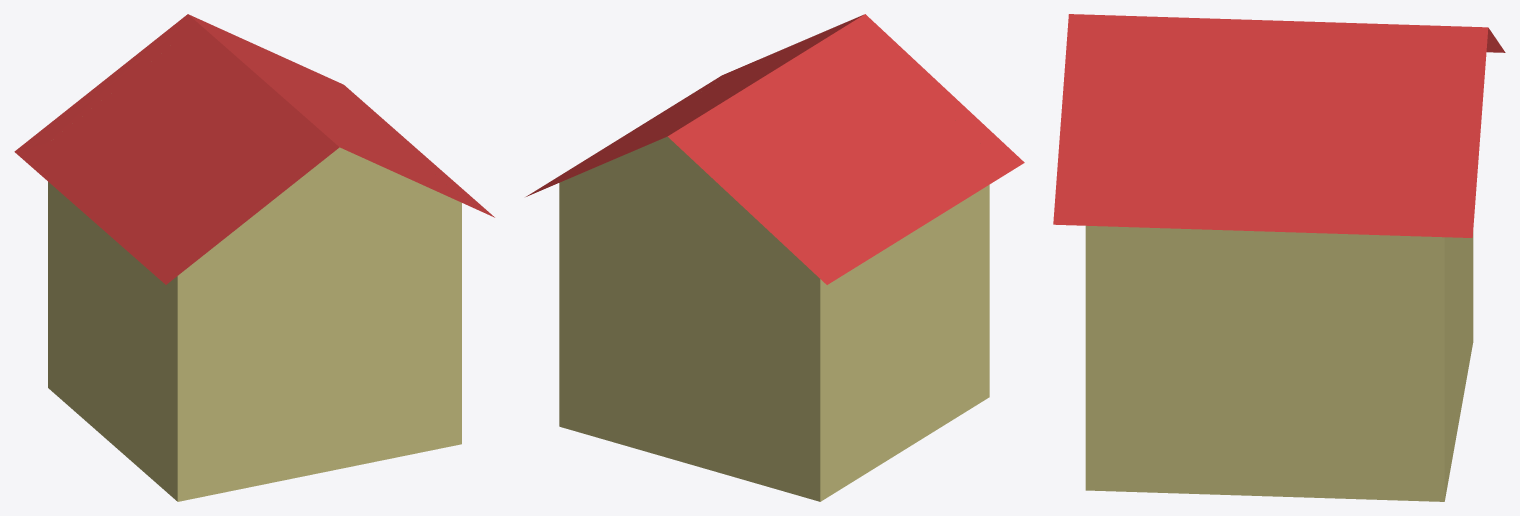
3 renders of one model, left to right at view 1: azimuth 30°, elevation 25°; view 2: azimuth 150°, elevation 25°; view 3: azimuth 270°, elevation 25°, orthographic. The views are drawn at different scales.
Size of the model in its own units: 7.76 by 7.47 by 7.3.
